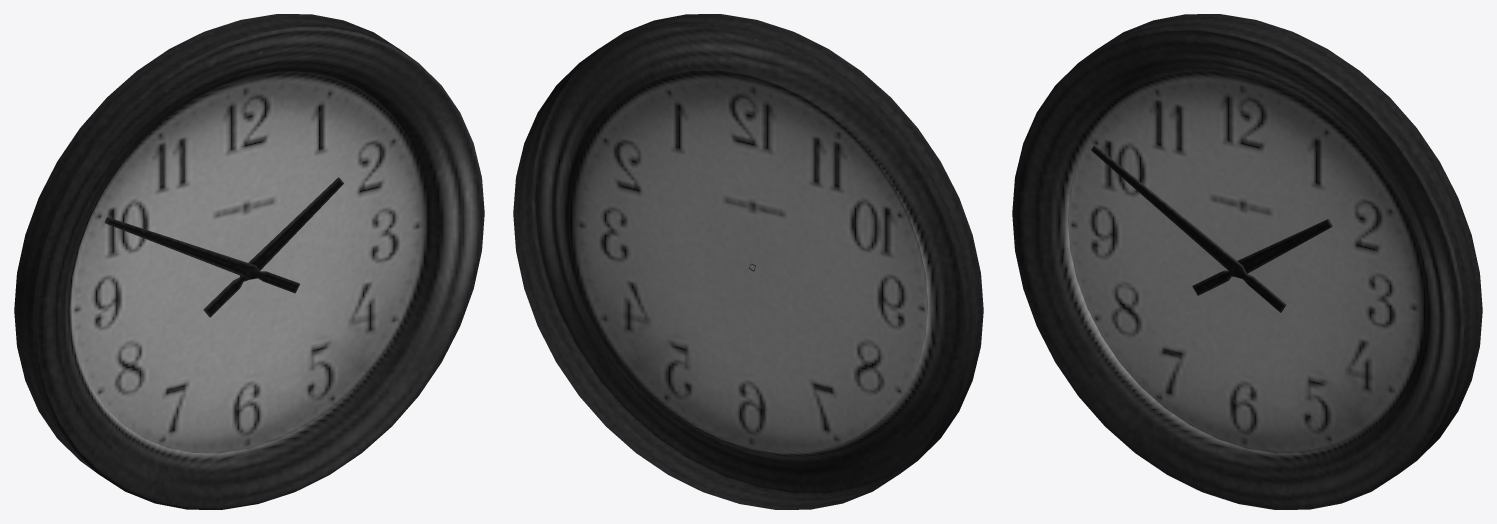
The model's file is clock_2.obj.
3 views of the same model, side by side, from view 1: azimuth 30°, elevation 25°; view 2: azimuth 150°, elevation 25°; view 3: azimuth 330°, elevation 25° (orthographic).
Parts seen in each view (by area): view 1: clock_2, clock_2_arm_long, clock_2_arm_short; view 2: clock_2; view 3: clock_2, clock_2_arm_long, clock_2_arm_short.
Part boxes in pixels (bbox=[...]): clock_2: bbox=[14, 14, 484, 509]; clock_2_arm_long: bbox=[104, 217, 299, 293]; clock_2_arm_short: bbox=[203, 177, 343, 317]; clock_2: bbox=[513, 14, 983, 509]; clock_2: bbox=[1012, 14, 1482, 509]; clock_2_arm_long: bbox=[1091, 145, 1286, 312]; clock_2_arm_short: bbox=[1192, 219, 1332, 295].
Bounding box in the file's own units: 0.2816 × 0.28 × 0.021.
